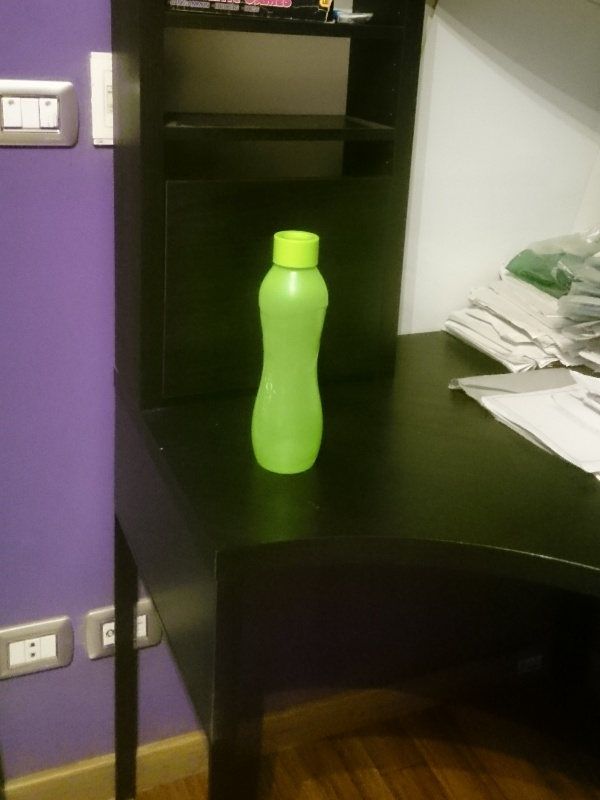my bottle: (246, 228, 329, 472)
